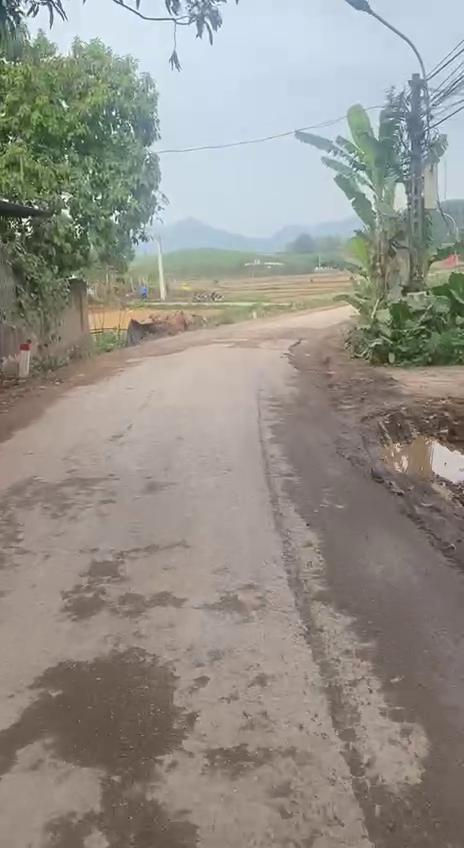pothole: (365, 438, 464, 488)
